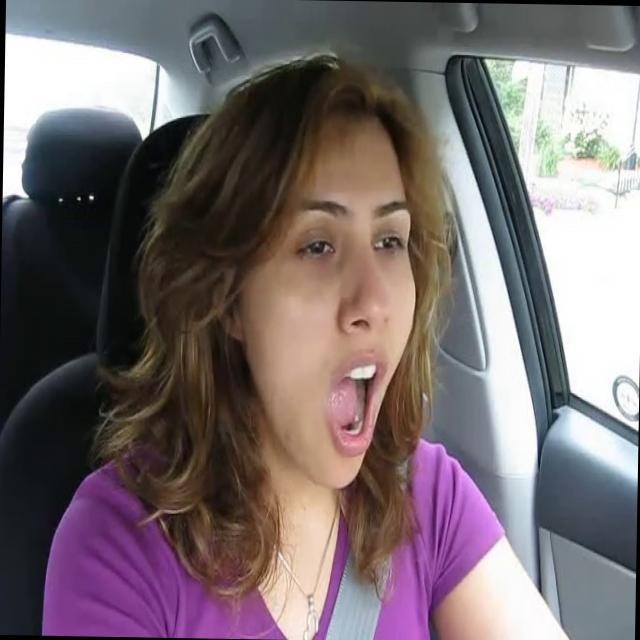open-mouth: (325, 352, 382, 458)
